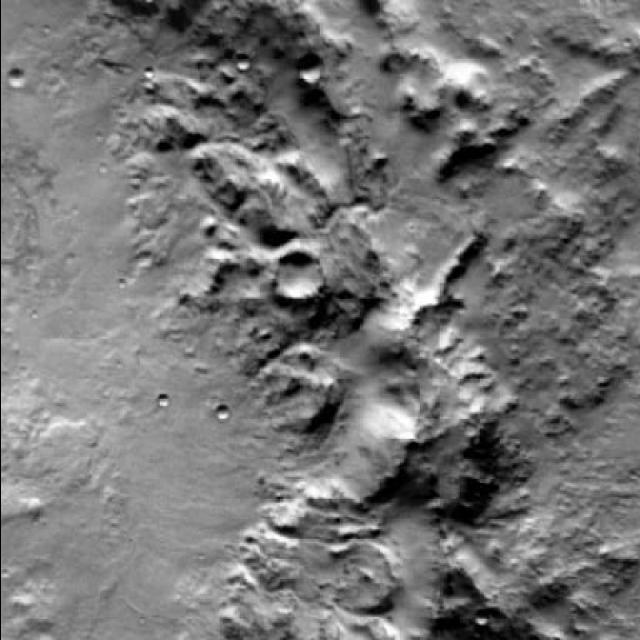crater: (269, 248, 317, 300), (296, 54, 320, 80), (8, 64, 26, 84)
